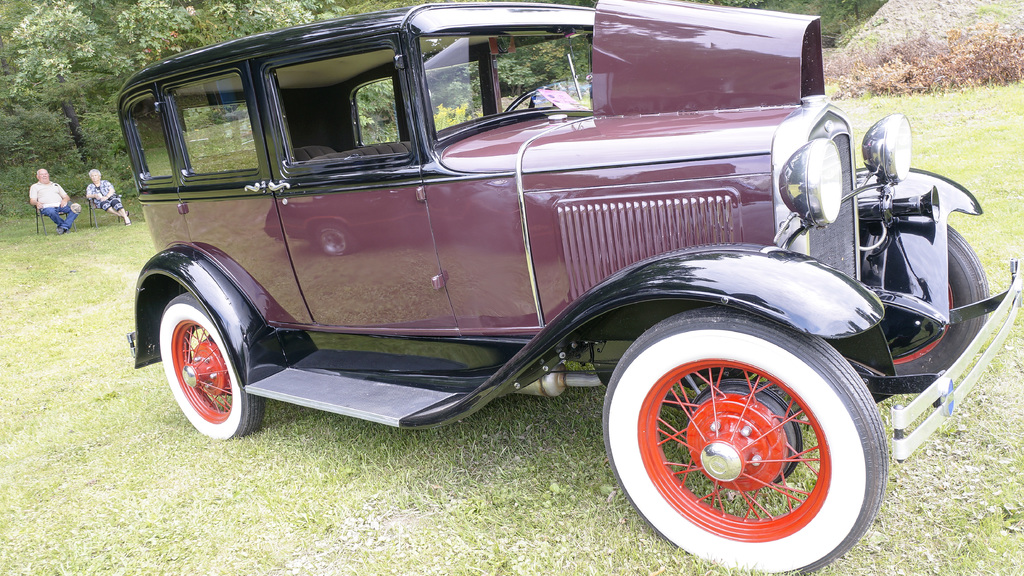Tree: (0, 0, 888, 218)
